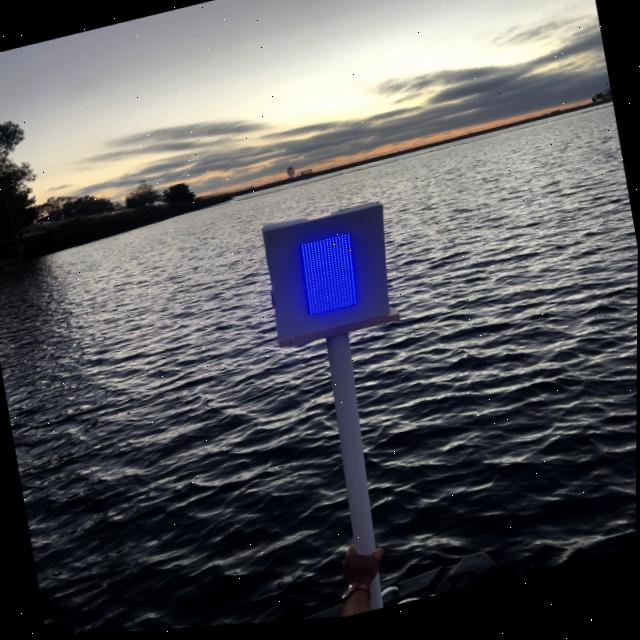led: (276, 220, 373, 334)
